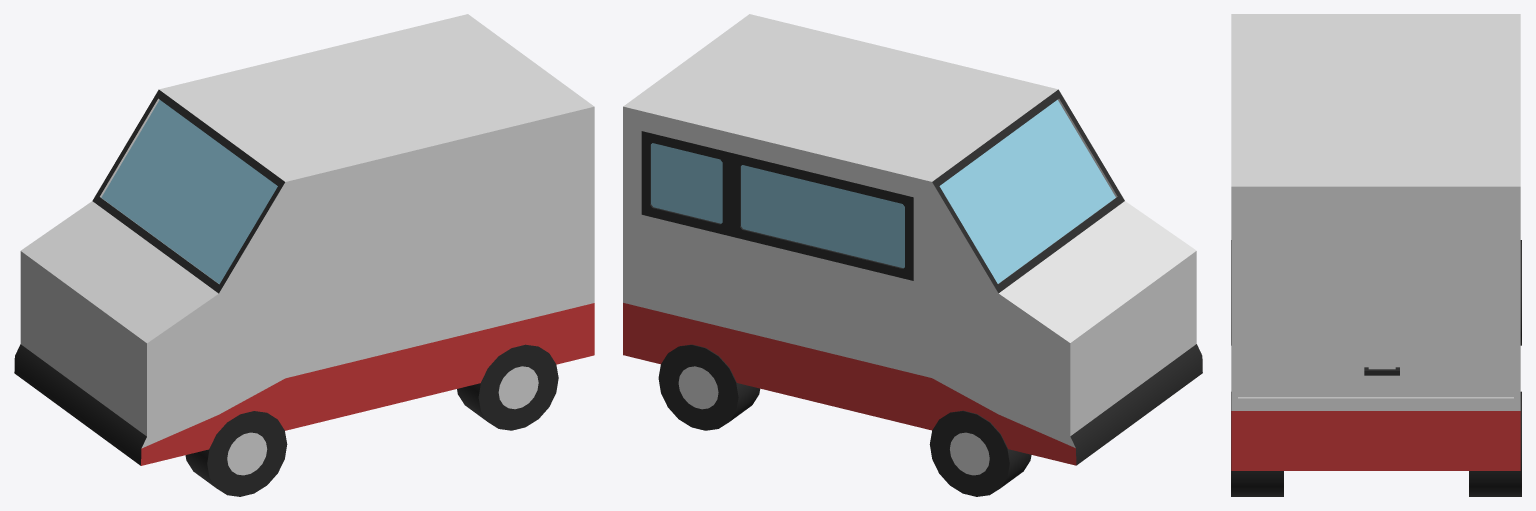
Rendered from SM_DeliveryTruck.FBX.
3 views of the same model, side by side, from view 1: azimuth 30°, elevation 25°; view 2: azimuth 150°, elevation 25°; view 3: azimuth 270°, elevation 25° (orthographic). The views are drawn at different scales.
Visible parts, largest first — view 1: deliverytruck; view 2: deliverytruck; view 3: deliverytruck.
Boxes of the visible parts, left/top/right/bottom form: deliverytruck: left=14, top=14, right=594, bottom=496; deliverytruck: left=623, top=14, right=1202, bottom=496; deliverytruck: left=1231, top=14, right=1521, bottom=496.
Bounding box in the file's own units: 553 × 350 × 266.
